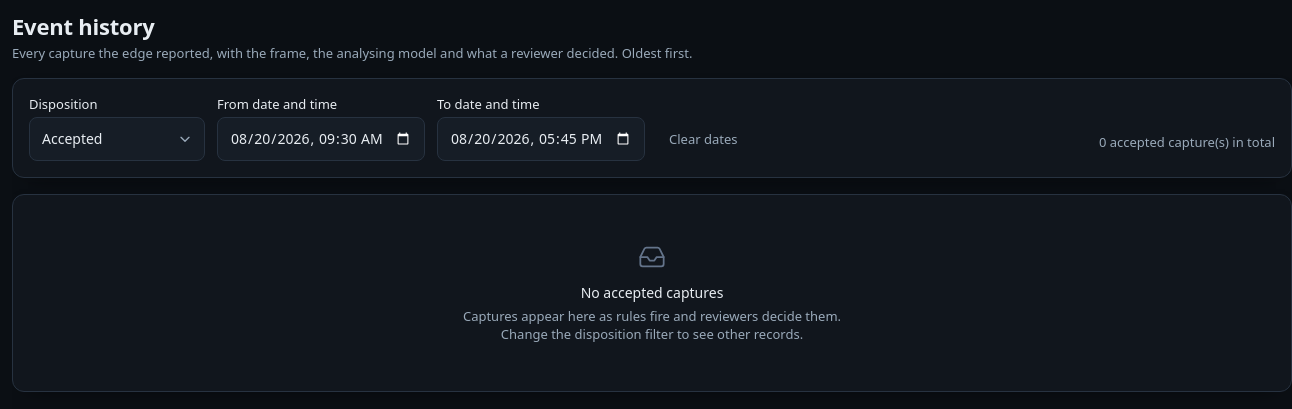
Test: HistoryPage › reads date-and-time filters from the URL and sends ISO timestamps to the API
expect the field labelled "To date and time" holds "2026-08-20T17:45": met, box [437,117,645,161]
Replace the text in the field labelled "From date and time" with "2026-08-20T10:15" at (321, 139), box [217,117,425,161]
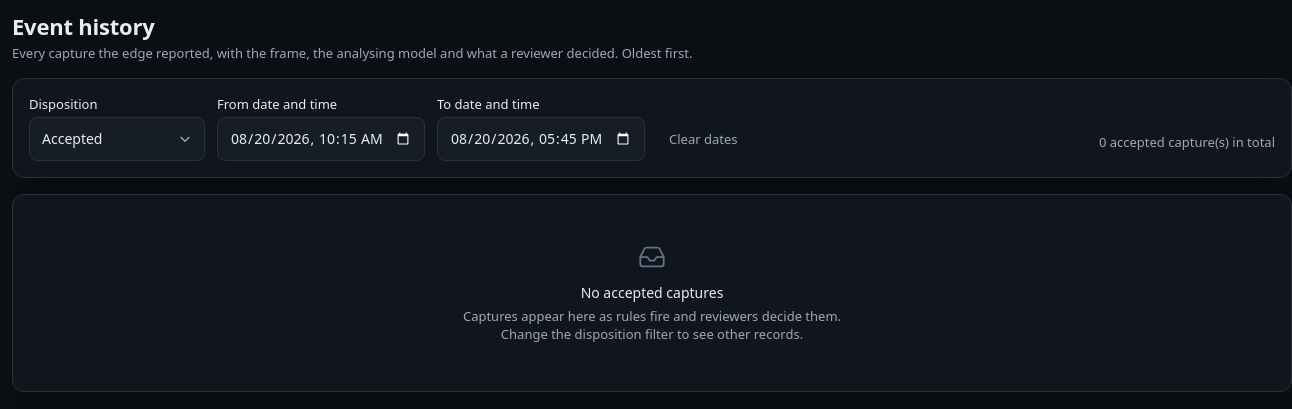
Click the button "Clear dates" at (703, 139), box [657,121,750,157]
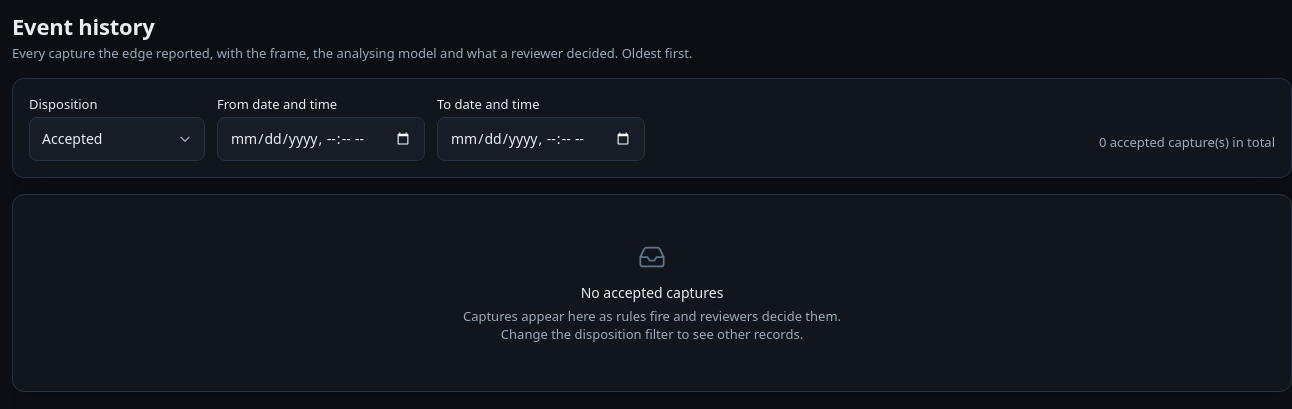
expect the field labelled "From date and time" is empty: met, box [217,117,425,161]
expect the field labelled "To date and time" is empty: met, box [437,117,645,161]
